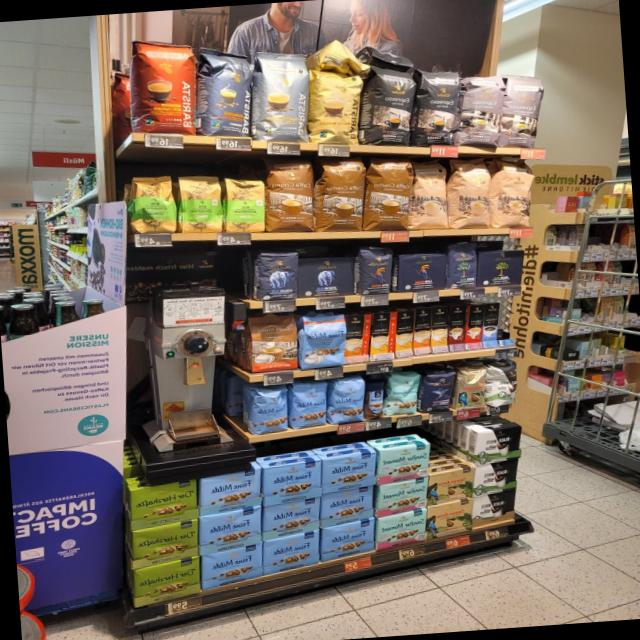AB Bohne: (254, 250, 299, 301)
AB Gemahlen: (297, 255, 354, 298)
Athiopien Bohne: (128, 175, 176, 235)
Athiopien Gemahlen: (178, 174, 223, 234), (222, 174, 267, 232)
BM Bohne: (446, 241, 478, 289)
BM Gemahlen: (478, 249, 525, 287)
BW Bohne: (488, 360, 518, 408)
BW Gemahlen: (476, 424, 521, 466), (473, 457, 518, 498), (472, 490, 516, 528)
Barista CB: (309, 67, 364, 144)
Barista CC: (255, 48, 309, 142)
Barista Espresso: (201, 45, 252, 138)
Barista Kolumbien: (134, 36, 197, 136)
C Fino Bohne: (420, 370, 456, 414)
CC Mild: (449, 157, 493, 228), (407, 157, 449, 229), (493, 158, 535, 227)
CC Vollmundig: (247, 314, 298, 374)
CC Vollmundig 36 Pads: (315, 156, 369, 232), (262, 160, 316, 235), (363, 157, 414, 231)
Colombia BB Bohne: (454, 367, 486, 410)
Colombia BB Gemahlen: (426, 465, 474, 506)
Espresso Aromatisch: (456, 72, 507, 146)
Espresso Kraftig: (364, 63, 415, 146), (414, 66, 460, 146)
Espresso M Art: (499, 73, 545, 148)
FM 36 Pads: (299, 312, 344, 370), (365, 381, 384, 420)
FM Bohne: (289, 379, 328, 430), (250, 386, 289, 436), (329, 376, 366, 425)
FM Gemahlen: (199, 505, 261, 556), (200, 466, 261, 517), (201, 541, 263, 591), (263, 458, 321, 506), (261, 496, 320, 541), (262, 529, 319, 575), (321, 516, 374, 562), (322, 450, 376, 494), (320, 485, 374, 528)
Herzhatfe Mundig: (130, 478, 198, 531), (133, 555, 200, 608), (131, 518, 198, 570)
LG Bohne: (356, 246, 394, 296)
LG Gemahlen: (397, 252, 447, 293)
SM Bohne: (385, 372, 420, 416)
SM Gemahlen: (377, 507, 426, 551), (377, 476, 428, 518), (378, 443, 429, 485), (426, 497, 473, 540)
Simo CCMild: (370, 311, 396, 361)
Simo CCMild bigpack: (395, 309, 412, 357)
Simo CCVollmundig: (344, 313, 371, 363)
Simo CCVollmundig bigpack: (412, 306, 432, 355)
Simo Decaff: (431, 305, 448, 353)
Simo Es Brazil: (465, 303, 483, 349)
Simo Es Caramel: (448, 304, 466, 351)
Simo Es Vanilla: (482, 302, 499, 346)
